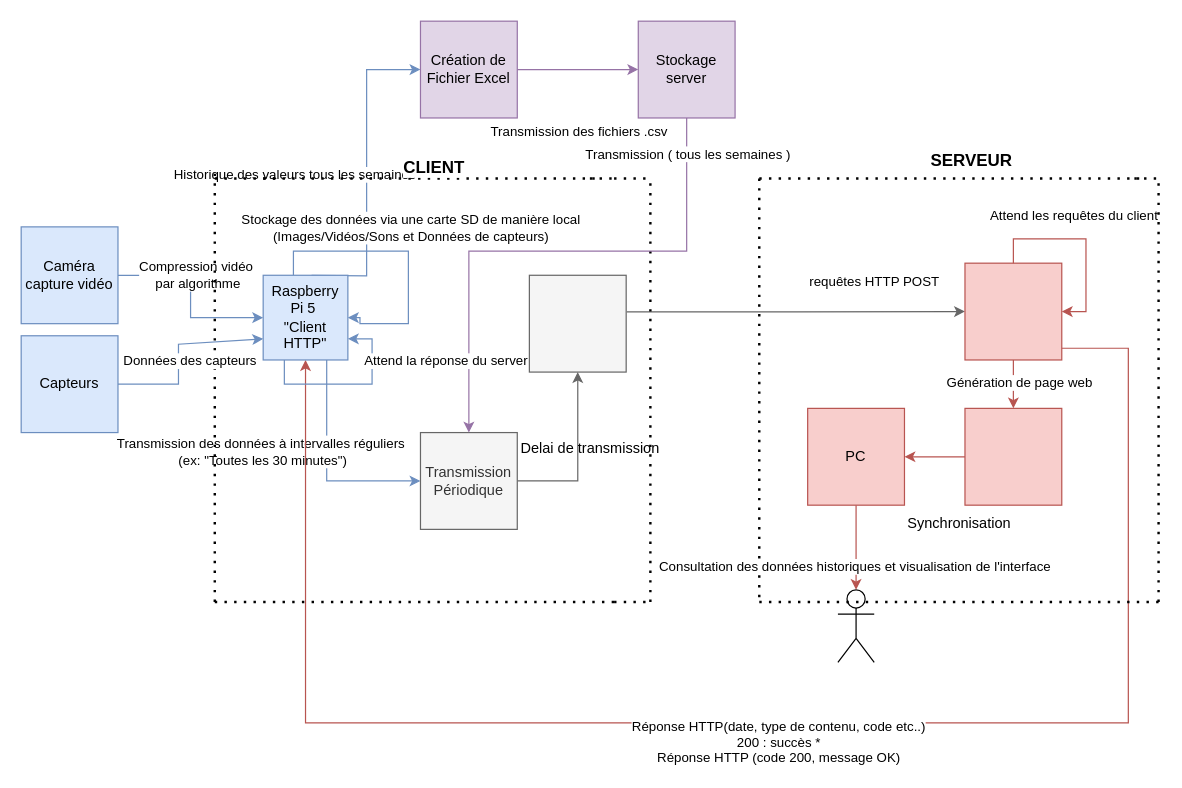
This 1182x788 diagram has some shape labels left out. Here are the shapes that lost their labels. From the top down, the centre of each, then its label:
[577,323]: 4G LTE Module
[1013,311]: Server HTTP
[1013,456]: Interface "Page Web"
[855,625]: Observer
